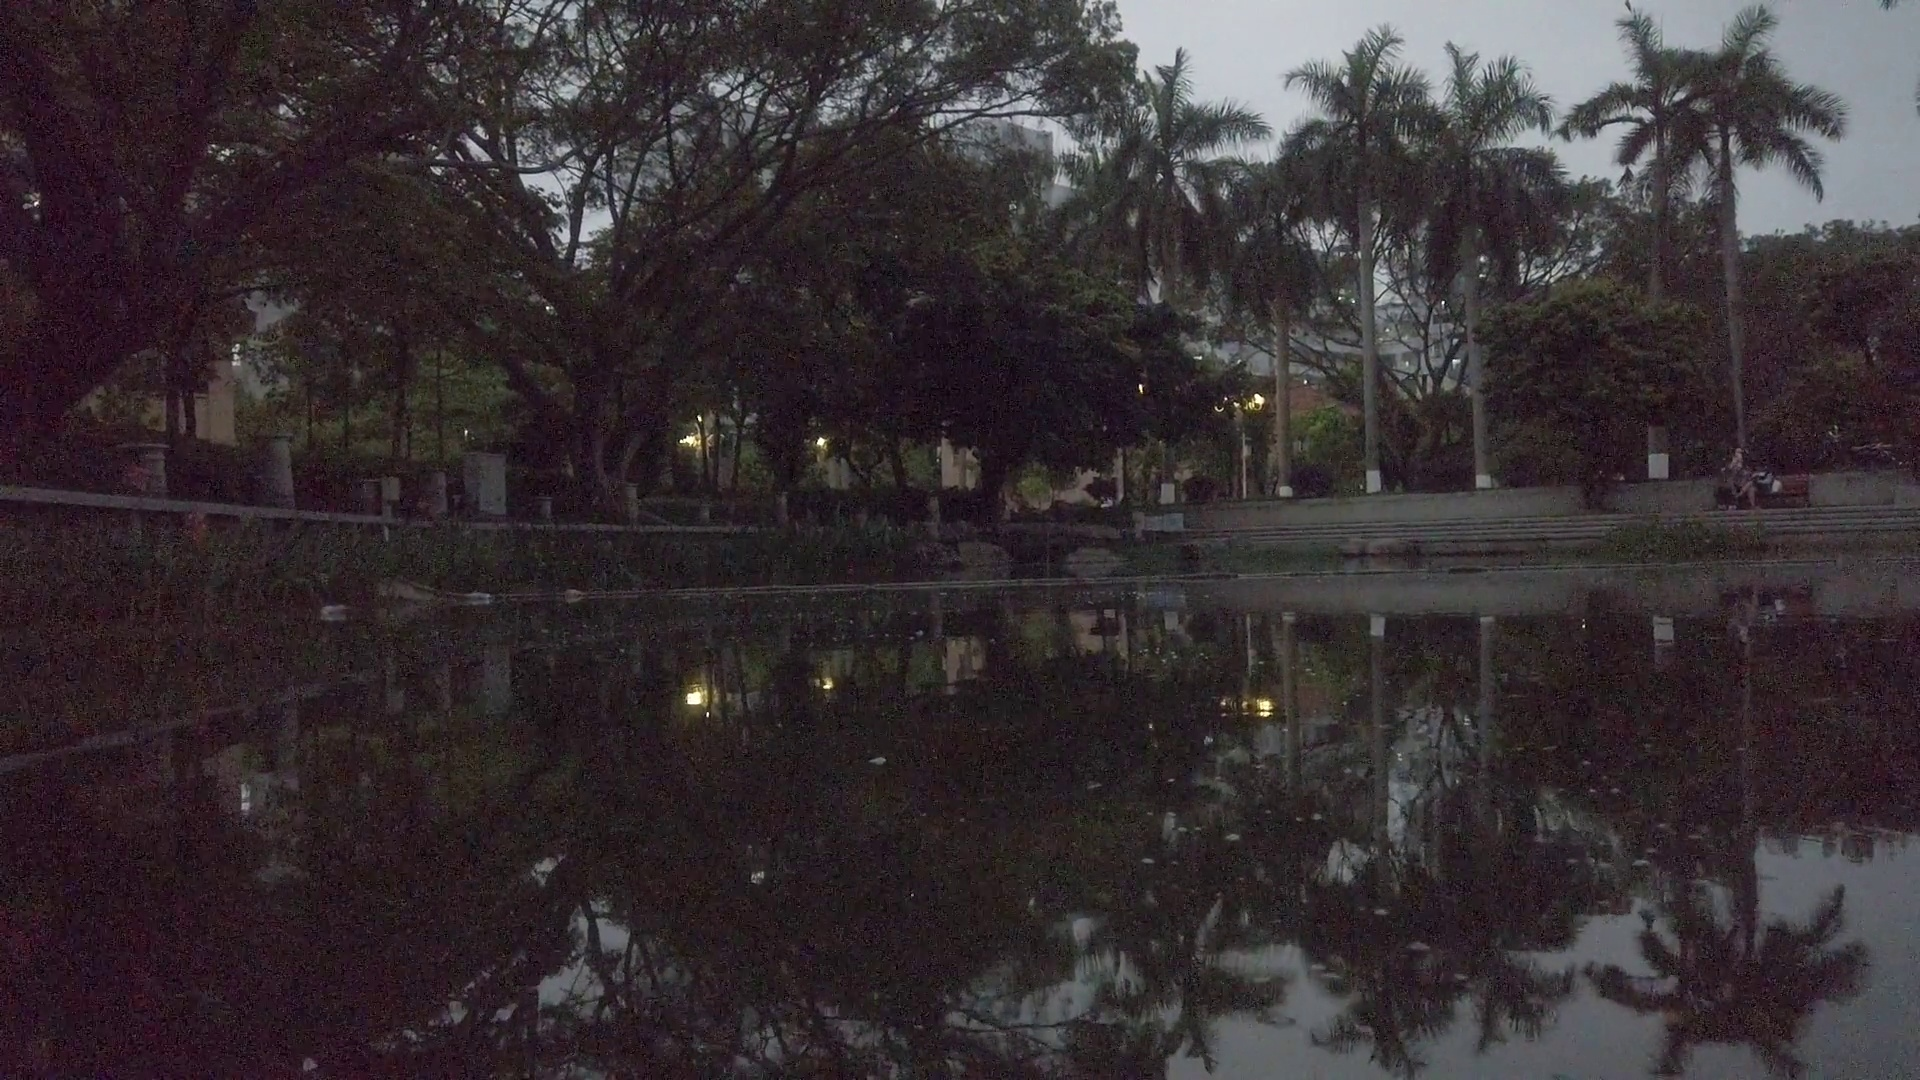bottle: (318, 603, 352, 621), (465, 591, 495, 603), (564, 588, 585, 600)
